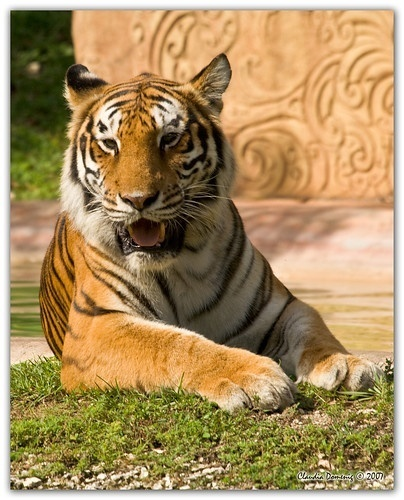tigre: (38, 52, 379, 414)
